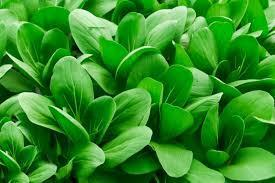Healthy-Pechay: (2, 2, 273, 182)
